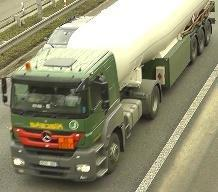Truck: (1, 0, 216, 180)
